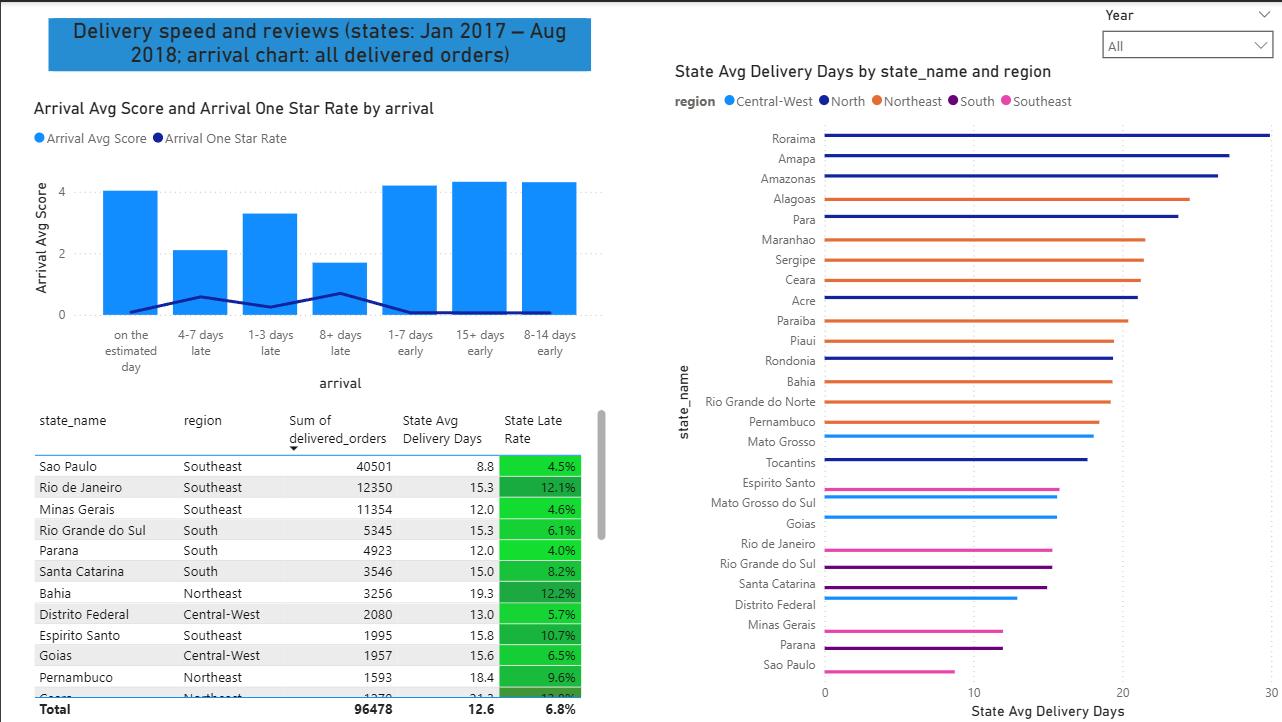

The dashboard page shown, as its layout file describes it:
{"tool":"powerbi","page":{"name":"Delivery","canvas":[1280,720],"ordinal":1},"visuals":[{"type":"lineClusteredColumnComboChart","fields":{"Category":["delivery_review.arrival"],"Y":["_Measures.Arrival Avg Score"],"Y2":["_Measures.Arrival One Star Rate"]},"box":[27.5,96.1,581.5,297],"z":0},{"type":"clusteredBarChart","fields":{"Category":["state_monthly.state_name"],"Y":["_Measures.State Avg Delivery Days"],"Series":["state_monthly.region"]},"box":[667.6,16.2,612.7,705],"z":1},{"type":"tableEx","fields":{"Values":["state_monthly.state_name","state_monthly.region","Sum(state_monthly.delivered_orders)","_Measures.State Avg Delivery Days","_Measures.State Late Rate"]},"box":[27.5,401.8,581.5,318.2],"z":2},{"type":"textbox","title":"Delivery speed and reviews (states: Jan 2017 – Aug 2018; arrival chart: all delivered orders)","box":[47.4,16.2,541.5,56.2],"z":3}]}

Visuals, with their boxes in screenshot pixels (x1, y1, x2, y2), scaled from the page's 1280x720 canvas onto the 1282x722 screenshot:
lineClusteredColumnComboChart - delivery_review.arrival x _Measures.Arrival Avg Score: select_region(28, 96, 610, 394)
clusteredBarChart - state_monthly.state_name x _Measures.State Avg Delivery Days: select_region(669, 16, 1281, 721)
tableEx - state_monthly.state_name x state_monthly.region: select_region(28, 403, 610, 721)
"Delivery speed and reviews (states: Jan 2017 – Aug 2018; arrival chart: all delivered orders)" textbox: select_region(47, 16, 590, 73)
